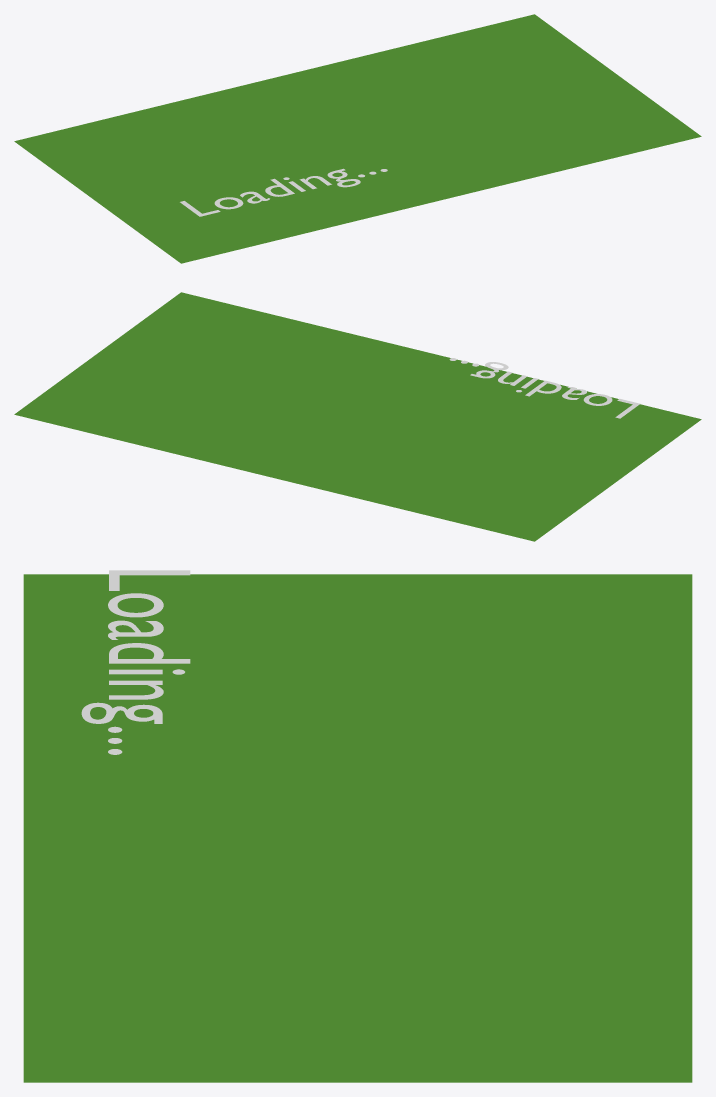
File: pantallaDeCarga.fbx
3 views of the same model, one above another, from view 1: azimuth 30°, elevation 25°; view 2: azimuth 150°, elevation 25°; view 3: azimuth 270°, elevation 25° (orthographic). The views are drawn at different scales.
Parts seen in each view (by area): view 1: Plane, Text; view 2: Plane, Text; view 3: Plane, Text.
Part boxes in pixels (bbox=[...]): Plane: bbox=[14, 14, 701, 263]; Text: bbox=[180, 168, 387, 216]; Plane: bbox=[14, 292, 701, 541]; Text: bbox=[449, 358, 640, 418]; Plane: bbox=[23, 574, 692, 1082]; Text: bbox=[81, 570, 190, 754].
Size of the model in its own units: 1008 by 39.61 by 560.
